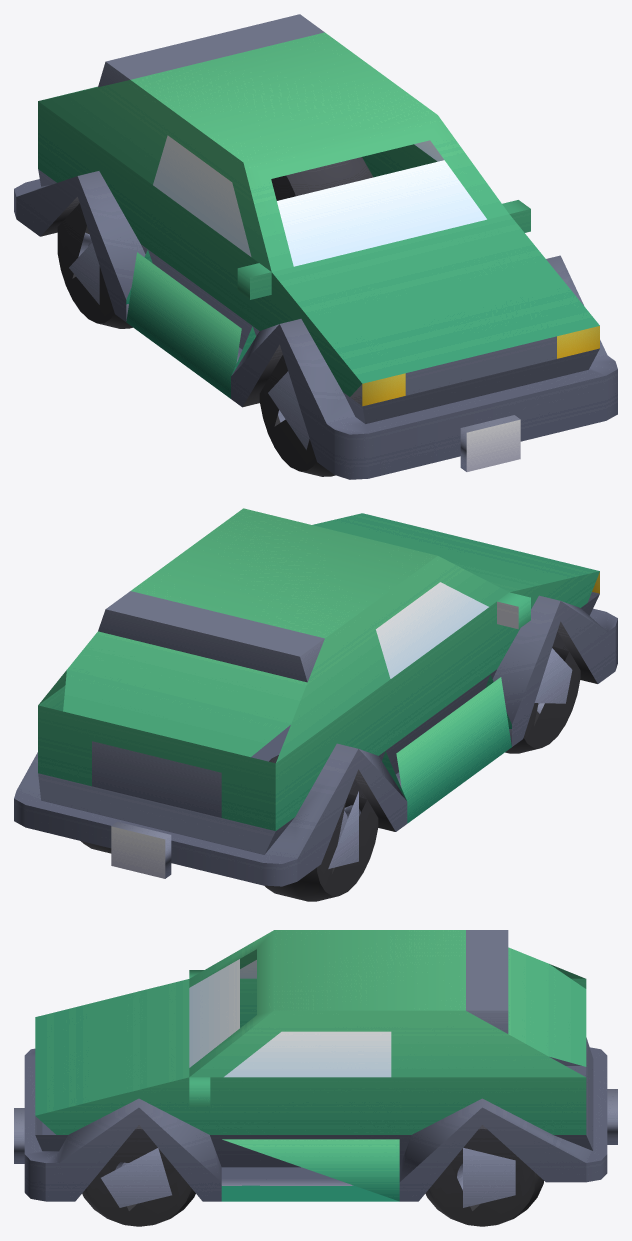
File: hatchback.glb
3 views of the same model, one above another, from view 1: azimuth 30°, elevation 25°; view 2: azimuth 150°, elevation 25°; view 3: azimuth 270°, elevation 25° (orthographic). The views are drawn at different scales.
Visible parts, largest first — view 1: wheel-front-left; view 2: wheel-front-left; view 3: wheel-front-left.
Part boxes in pixels (x1,y1,x2,y2): wheel-front-left: (14,14,617,479); wheel-front-left: (14,508,617,901); wheel-front-left: (14,930,617,1226).
Bounding box in the file's own units: 1.3 × 1.1 × 2.85.
Materials: 1 (1 with a texture image).
